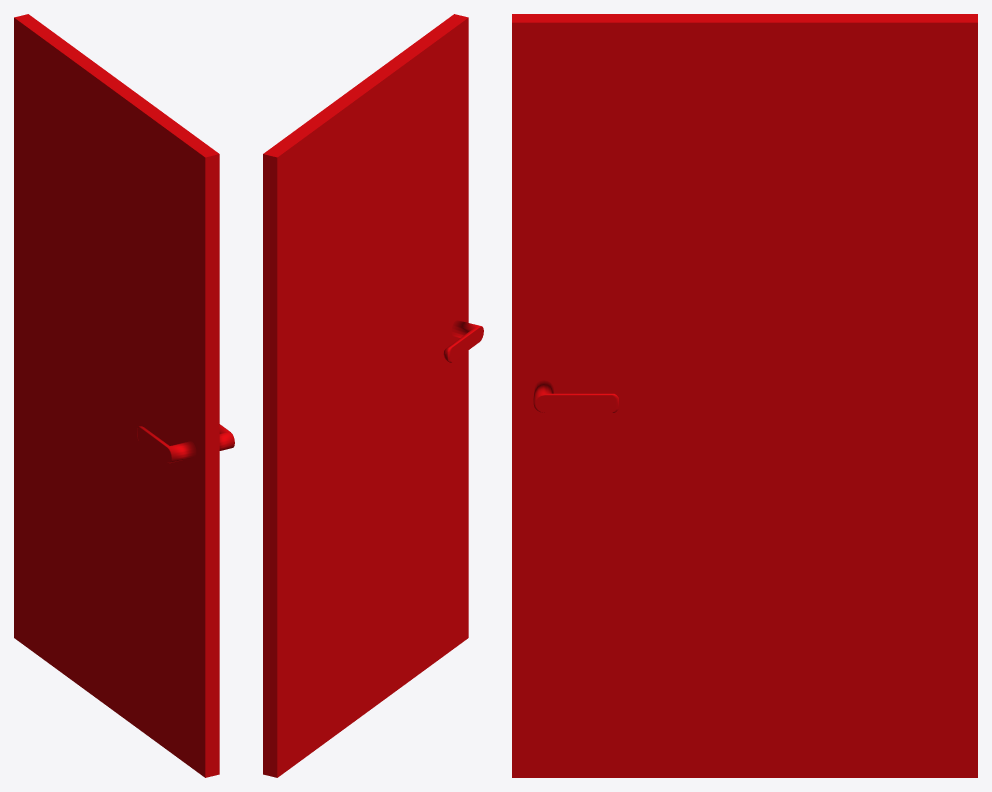
The model's file is door.fbx.
3 renders of one model, left to right at view 1: azimuth 30°, elevation 25°; view 2: azimuth 150°, elevation 25°; view 3: azimuth 270°, elevation 25°, orthographic. The views are drawn at different scales.
Visible parts, largest first — view 1: door; view 2: door; view 3: door.
Boxes of the visible parts, <box> form: door: <box>14,14,234,777</box>; door: <box>263,14,483,777</box>; door: <box>512,14,977,777</box>.
Size of the model in its own units: 26.21 by 243 by 136.
